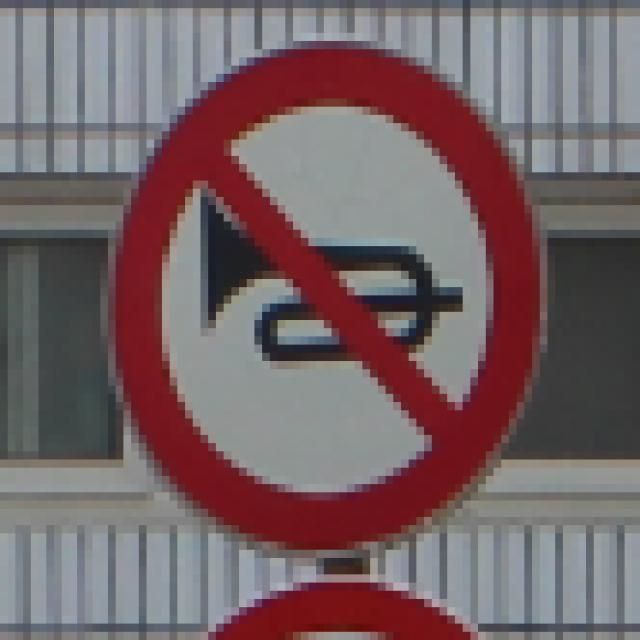No Horn: (104, 41, 546, 557)
